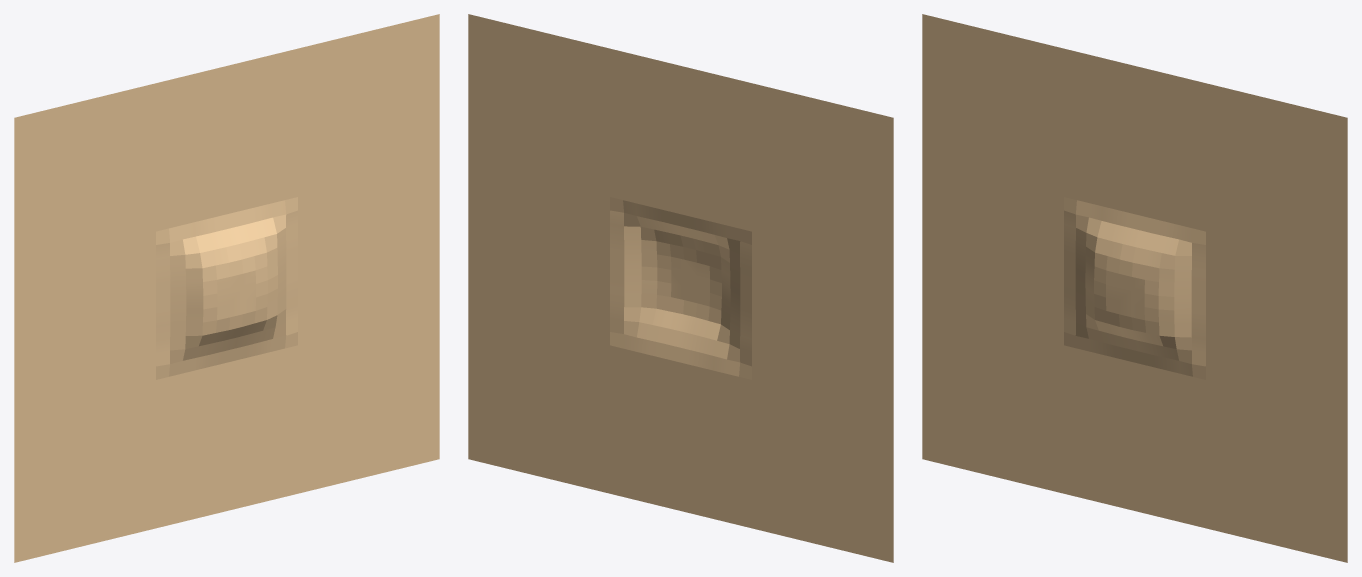
The model's file is UnderWaterTerrain.001.glb.
3 views of the same model, side by side, from view 1: azimuth 30°, elevation 25°; view 2: azimuth 150°, elevation 25°; view 3: azimuth 330°, elevation 25° (orthographic).
Visible parts, largest first — view 1: UnderWaterTerrain.001; view 2: UnderWaterTerrain.001; view 3: UnderWaterTerrain.001.
Boxes of the visible parts, x1,y1,x2,y2 form: UnderWaterTerrain.001: [14, 14, 439, 562]; UnderWaterTerrain.001: [468, 14, 893, 562]; UnderWaterTerrain.001: [922, 14, 1347, 562].
Bounding box in the file's own units: 600 × 600 × 23.6.
Materials: 1 (1 with a texture image).
